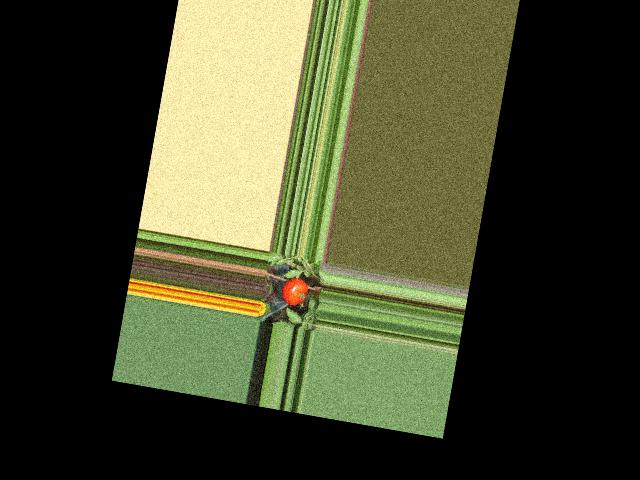tomato: (279, 275, 309, 307)
